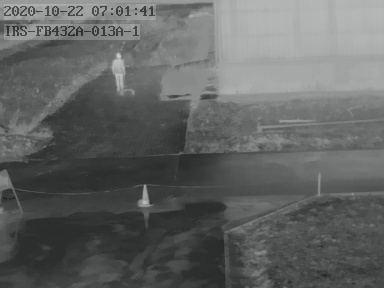person: (112, 53, 126, 91)
